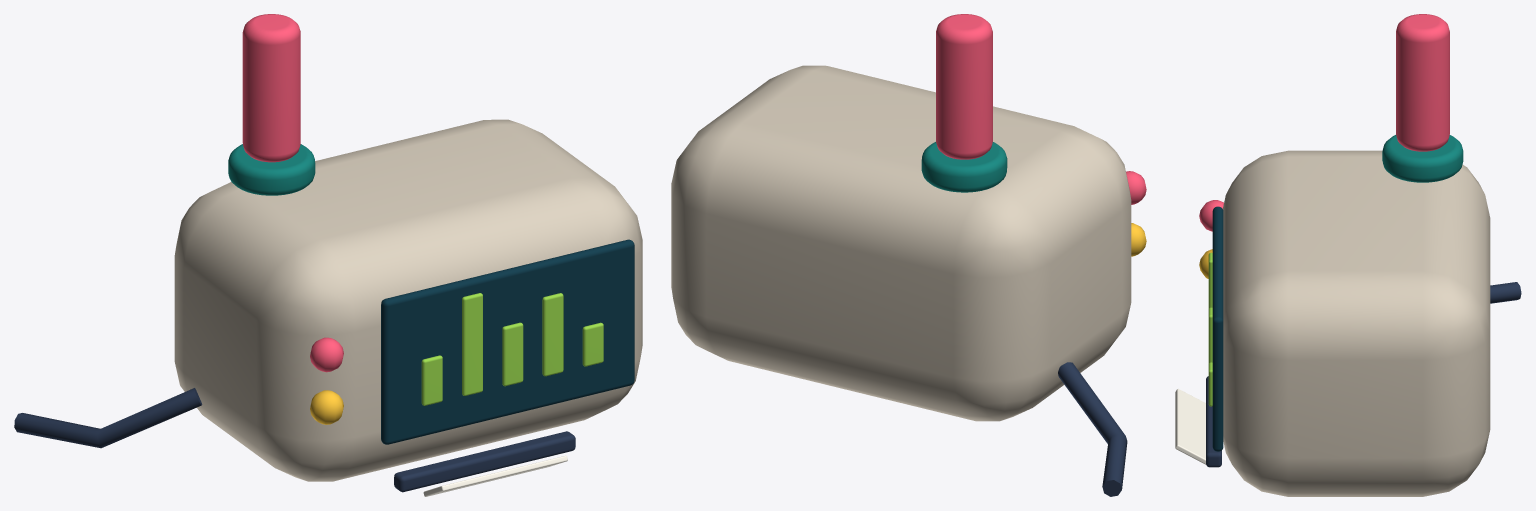
File: BenchAnalyzer.fbx
3 renders of one model, left to right at view 1: azimuth 30°, elevation 25°; view 2: azimuth 150°, elevation 25°; view 3: azimuth 270°, elevation 25°, orthographic. The views are drawn at different scales.
Parts seen in each view (by area): view 1: BenchAnalyzer mesh; view 2: BenchAnalyzer mesh; view 3: BenchAnalyzer mesh.
Part boxes in pixels (x1,y1,x2,y2): BenchAnalyzer mesh: (14, 14, 642, 496); BenchAnalyzer mesh: (671, 14, 1146, 496); BenchAnalyzer mesh: (1175, 14, 1521, 496).
Size of the model in its own units: 0.3961 by 0.3039 by 0.2568.
